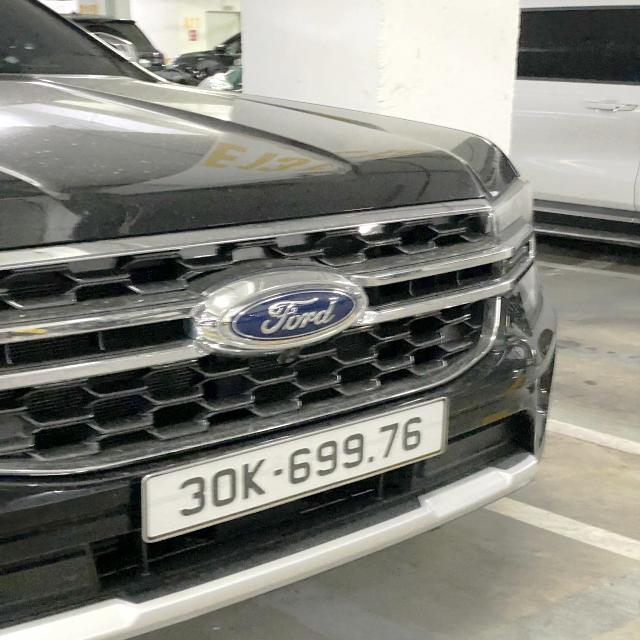license_plate: (137, 392, 454, 548)
